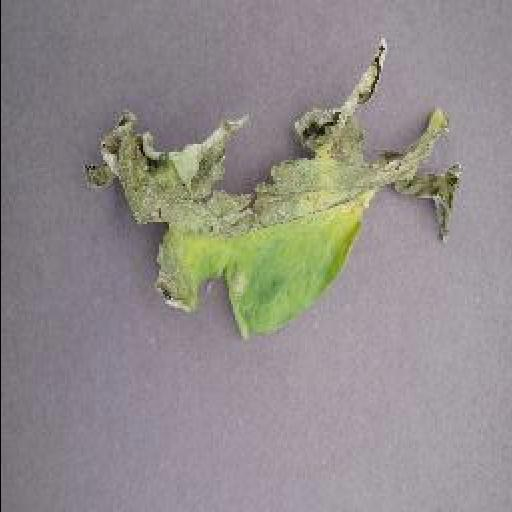disease_tomato: (78, 42, 460, 342)
